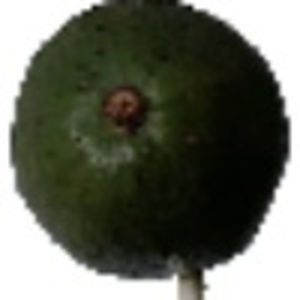abacate: (7, 1, 291, 280)
